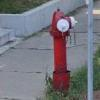a fire hydrant: (50, 9, 77, 92)
